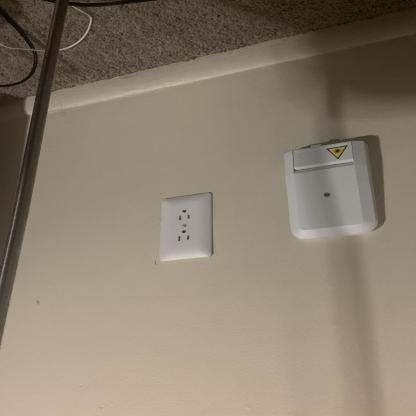OUTLET: (160, 192, 215, 262)
